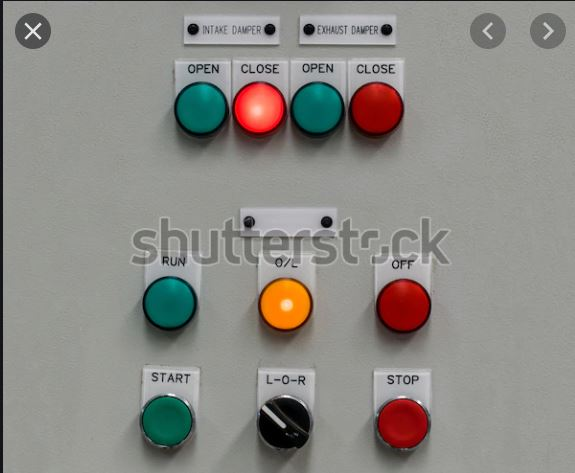Green_Led_Off: (172, 79, 231, 140), (141, 275, 201, 333), (138, 395, 198, 453), (288, 81, 345, 142)
Red_Led_Off: (373, 394, 435, 453), (374, 276, 435, 334), (346, 82, 407, 136)
Red_Led_On: (231, 80, 288, 141)
Yellow_Led_On: (257, 276, 316, 332)
